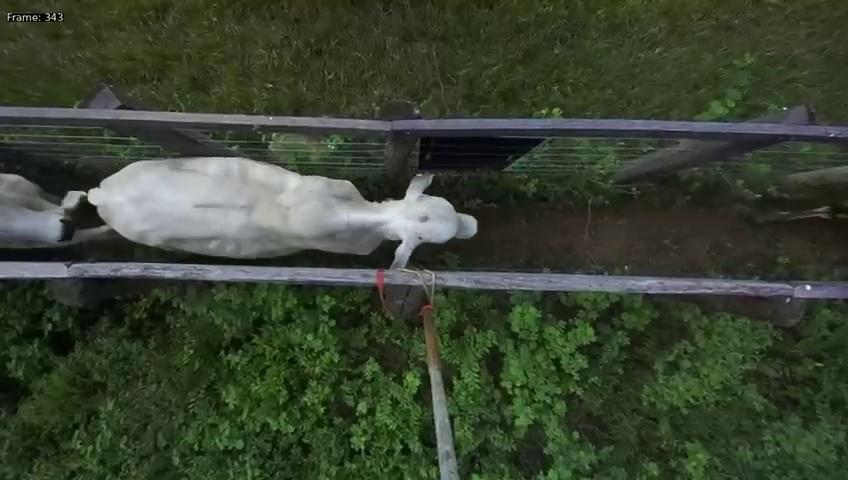cattle: (82, 125, 478, 270)
